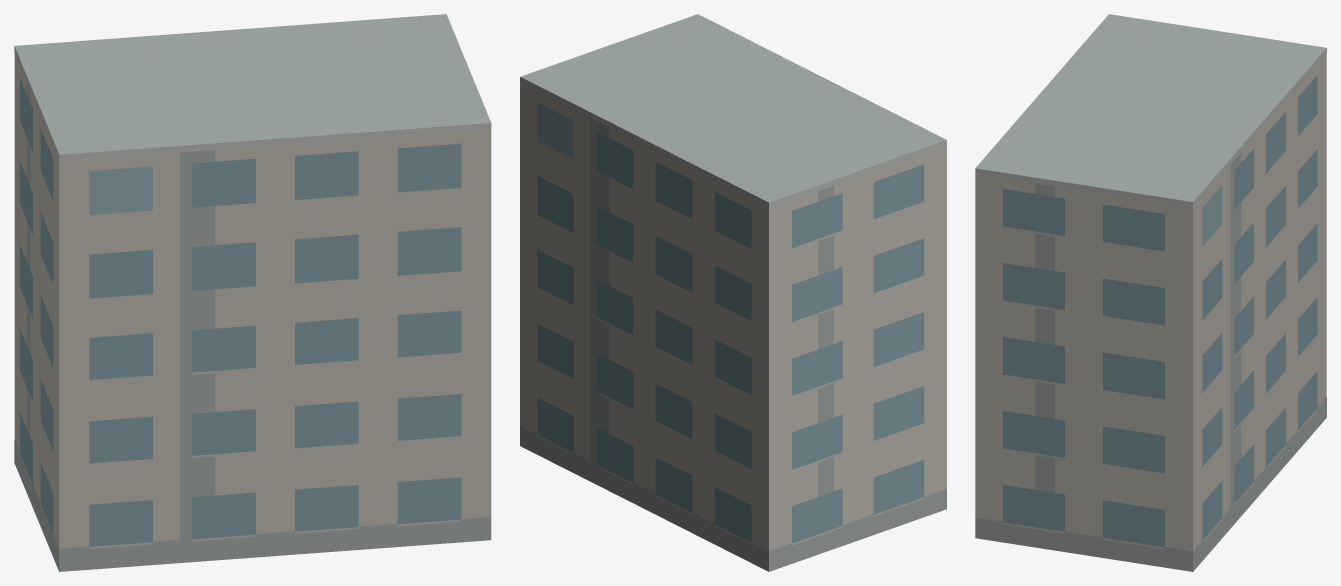
File: residential-775c3288-1b47-4dab-b18d-49a49fdd6b78.glb
3 views of the same model, side by side, from view 1: azimuth 30°, elevation 25°; view 2: azimuth 150°, elevation 25°; view 3: azimuth 270°, elevation 25° (orthographic). The views are drawn at different scales.
Parts seen in each view (by area): view 1: residential-775c3288-1b47-4dab-b18d-49a49fdd6b78.tmp; view 2: residential-775c3288-1b47-4dab-b18d-49a49fdd6b78.tmp; view 3: residential-775c3288-1b47-4dab-b18d-49a49fdd6b78.tmp.
Part boxes in pixels (x1=…): residential-775c3288-1b47-4dab-b18d-49a49fdd6b78.tmp: x1=14, y1=14, x2=491, y2=571; residential-775c3288-1b47-4dab-b18d-49a49fdd6b78.tmp: x1=520, y1=14, x2=946, y2=571; residential-775c3288-1b47-4dab-b18d-49a49fdd6b78.tmp: x1=975, y1=14, x2=1326, y2=571.
Bounding box in the file's own units: 16.64 × 15.25 × 13.15.
